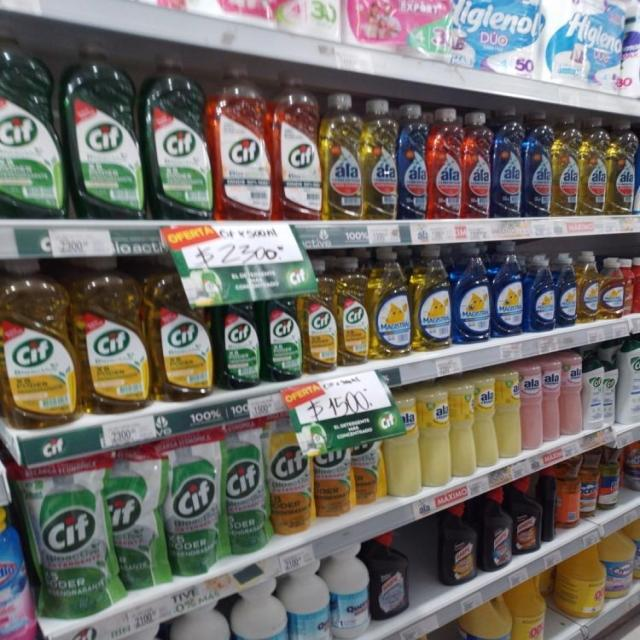ala_conc_amarillo: (323, 92, 362, 221), (363, 98, 397, 220), (580, 117, 608, 216), (553, 113, 579, 217), (608, 120, 635, 214)
ala_conc_azul: (398, 103, 428, 221), (492, 108, 522, 218), (524, 109, 552, 218)
ala_conc_rojo: (429, 106, 462, 220), (464, 109, 492, 220)
ala_crem_amarillo: (386, 388, 420, 498), (420, 379, 450, 489), (450, 373, 474, 479), (496, 366, 520, 460), (475, 371, 496, 469)
ala_crem_rosado: (521, 359, 542, 452), (561, 352, 582, 436), (542, 356, 560, 443)
cif_conc_bot_amarilla: (0, 259, 75, 426), (78, 255, 148, 414), (150, 260, 212, 402), (304, 258, 336, 375), (338, 255, 369, 368)
cif_conc_botella_roja: (210, 58, 271, 222), (272, 70, 321, 222)
cif_conc_botella_verde: (62, 39, 140, 220), (0, 15, 58, 221), (144, 50, 208, 224), (215, 262, 260, 390), (262, 260, 302, 384)
cif_conc_sachet_amarillo: (269, 415, 312, 536)
cif_conc_sachet_verde: (32, 456, 111, 618), (167, 436, 220, 578), (224, 423, 268, 556)
magistral_con_amarillo: (370, 248, 410, 359), (412, 244, 451, 352), (600, 256, 626, 320), (578, 251, 600, 323)
magistral_con_azul: (453, 243, 490, 344), (492, 243, 523, 338), (526, 253, 554, 333), (556, 252, 576, 328)
